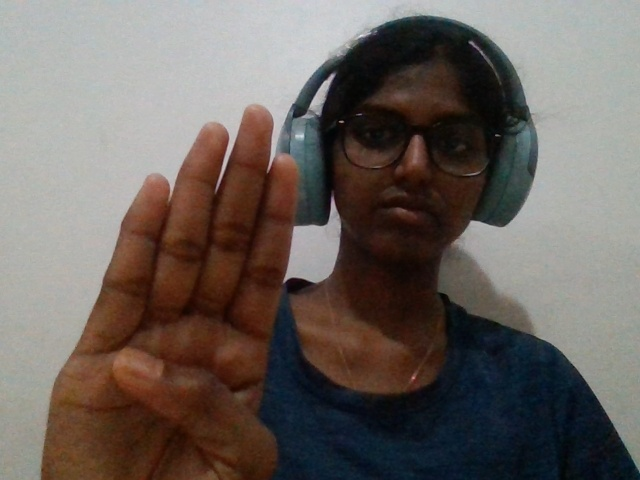B: (29, 97, 305, 480)
